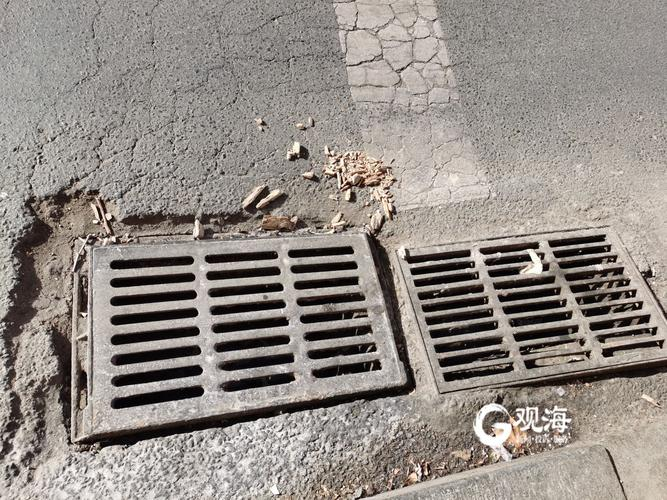circle: (8, 172, 431, 470)
